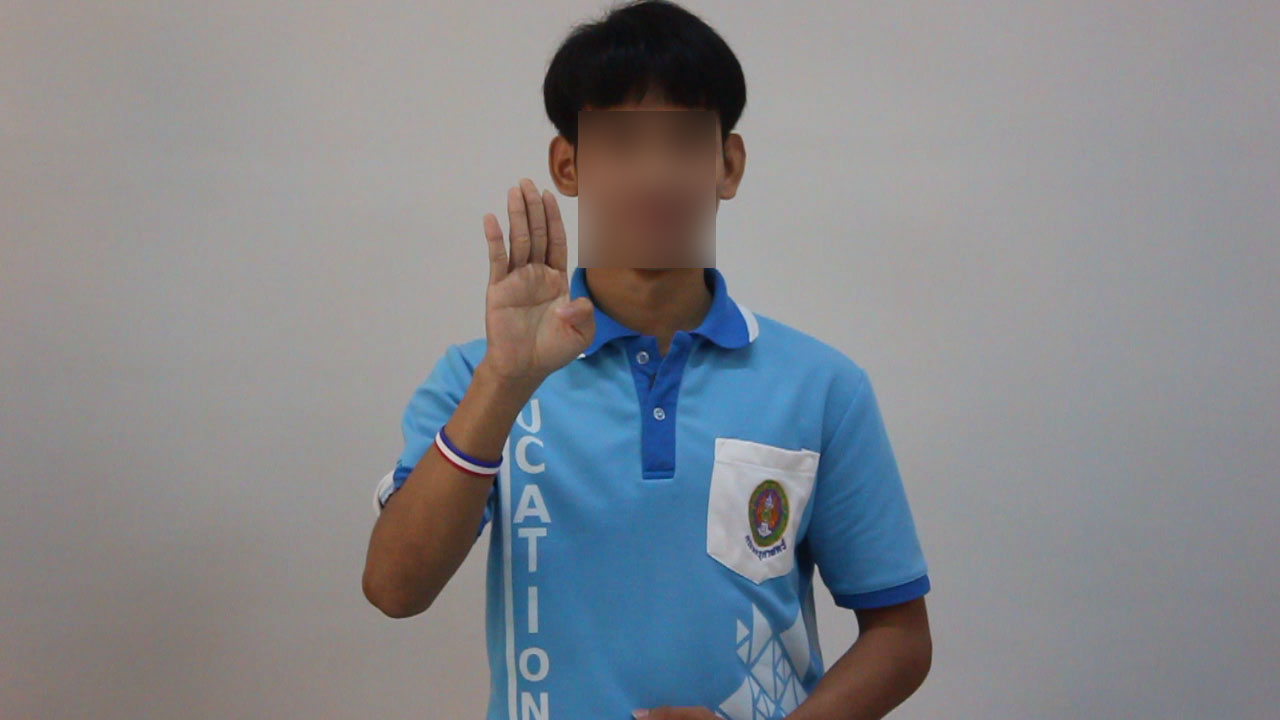bor: (454, 164, 612, 400)
